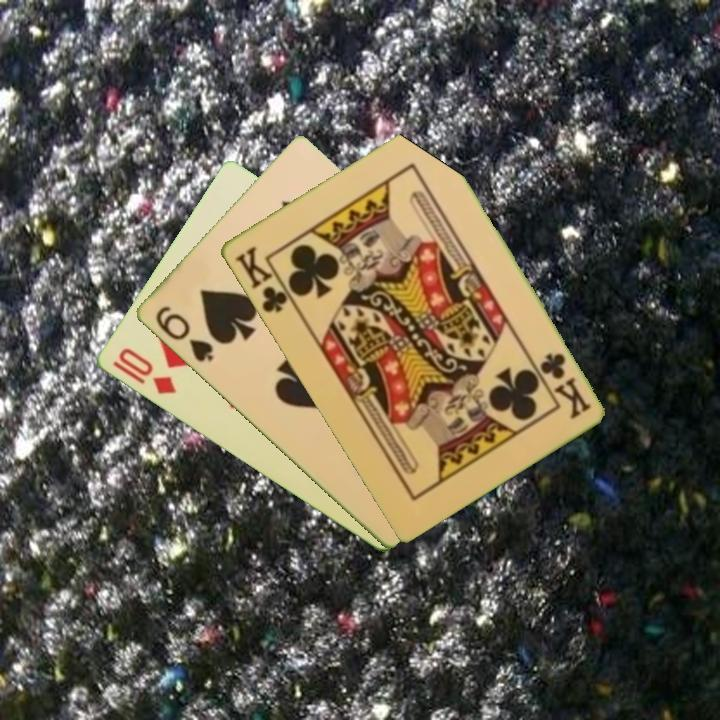10d: (114, 344, 179, 398)
6s: (151, 302, 217, 365)
Kc: (231, 242, 297, 316), (536, 349, 594, 421)
